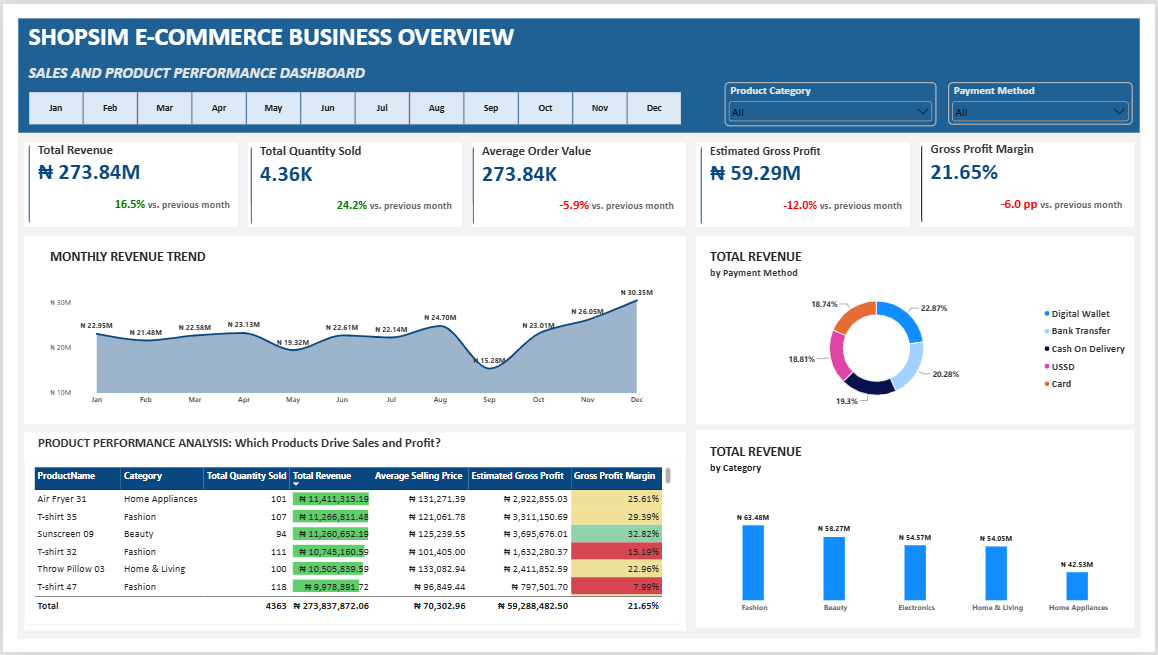

Layout of this report page (visuals, bound fields, positions):
{"tool":"powerbi","page":{"name":"Sales & Product Performance","canvas":[1920,1080],"ordinal":0},"visuals":[{"type":"areaChart","title":"MONTHLY REVENUE TREND","fields":{"Category":["Calendar.Month"],"Y":["Measure.Total Revenue"]},"box":[62,393.7,1042.6,295.9],"z":0},{"type":"clusteredColumnChart","title":"TOTAL REVENUE","fields":{"Category":["Products.Category"],"Y":["Measure.Total Revenue"]},"box":[1161.9,718.2,720.5,317.3],"z":1000,"group":"g1"},{"type":"donutChart","title":"TOTAL REVENUE","fields":{"Category":["Orders.PaymentMethod"],"Y":["Measure.Total Revenue"]},"box":[1162.5,392.5,732.5,297.5],"z":2000,"group":"g1"},{"type":"tableEx","fields":{"Values":["Products.ProductName","Products.Category","Measure.Total Quantity Sold","Measure.Total Revenue","Measure.Average Selling Price","Measure.Estimated Gross Profit","Measure.Gross Profit Margin"]},"box":[35.8,758.7,1095.1,276.8],"z":3000},{"type":"cardVisual","fields":{"Data":["Measure.Total Revenue"]},"box":[42.9,231.4,352.5,135],"z":4000},{"type":"cardVisual","fields":{"Data":["Measure.Total Quantity Sold"]},"box":[412.8,233.8,352,135],"z":5000},{"type":"cardVisual","fields":{"Data":["Measure.Average Order Value"]},"box":[782.5,235,352,135],"z":6000},{"type":"cardVisual","fields":{"Data":["Measure.Estimated Gross Profit"]},"box":[1161.9,233.8,352,135],"z":7000},{"type":"cardVisual","fields":{"Data":["Measure.Gross Profit Margin"]},"box":[1529.4,231.4,352,135],"z":8000},{"type":"textbox","box":[42.5,717.5,702.5,40],"z":9000},{"type":"textbox","box":[42.9,28.6,916.2,116.9],"z":10000},{"type":"slicer","fields":{"Values":["Products.Category"]},"box":[1202.5,128.8,353.1,74],"z":11000},{"type":"slicer","fields":{"Values":["Orders.PaymentMethod"]},"box":[1574.7,128.8,307.8,71.6],"z":12000},{"type":"slicer","fields":{"Values":["Calendar.Month"]},"box":[21.5,145.5,1126.2,57.3],"z":13000},{"type":"group","id":"g1","title":"Group 1","box":[1161.9,392.5,733.1,643],"z":13001}]}

Visuals, with their boxes in screenshot pixels (x1, y1, x2, y2), scaled from the page's 1920x1080 canvas onto the 1158x655 screenshot:
"MONTHLY REVENUE TREND" areaChart: <bbox>37, 239, 666, 418</bbox>
"TOTAL REVENUE" clusteredColumnChart: <bbox>701, 436, 1135, 628</bbox>
"TOTAL REVENUE" donutChart: <bbox>701, 238, 1143, 418</bbox>
tableEx - Products.ProductName x Products.Category: <bbox>22, 460, 682, 628</bbox>
cardVisual - Measure.Total Revenue: <bbox>26, 140, 238, 222</bbox>
cardVisual - Measure.Total Quantity Sold: <bbox>249, 142, 461, 224</bbox>
cardVisual - Measure.Average Order Value: <bbox>472, 143, 684, 224</bbox>
cardVisual - Measure.Estimated Gross Profit: <bbox>701, 142, 913, 224</bbox>
cardVisual - Measure.Gross Profit Margin: <bbox>922, 140, 1135, 222</bbox>
textbox: <bbox>26, 435, 449, 459</bbox>
textbox: <bbox>26, 17, 578, 88</bbox>
slicer - Products.Category: <bbox>725, 78, 938, 123</bbox>
slicer - Orders.PaymentMethod: <bbox>950, 78, 1135, 122</bbox>
slicer - Calendar.Month: <bbox>13, 88, 692, 123</bbox>
"Group 1" group: <bbox>701, 238, 1143, 628</bbox>
